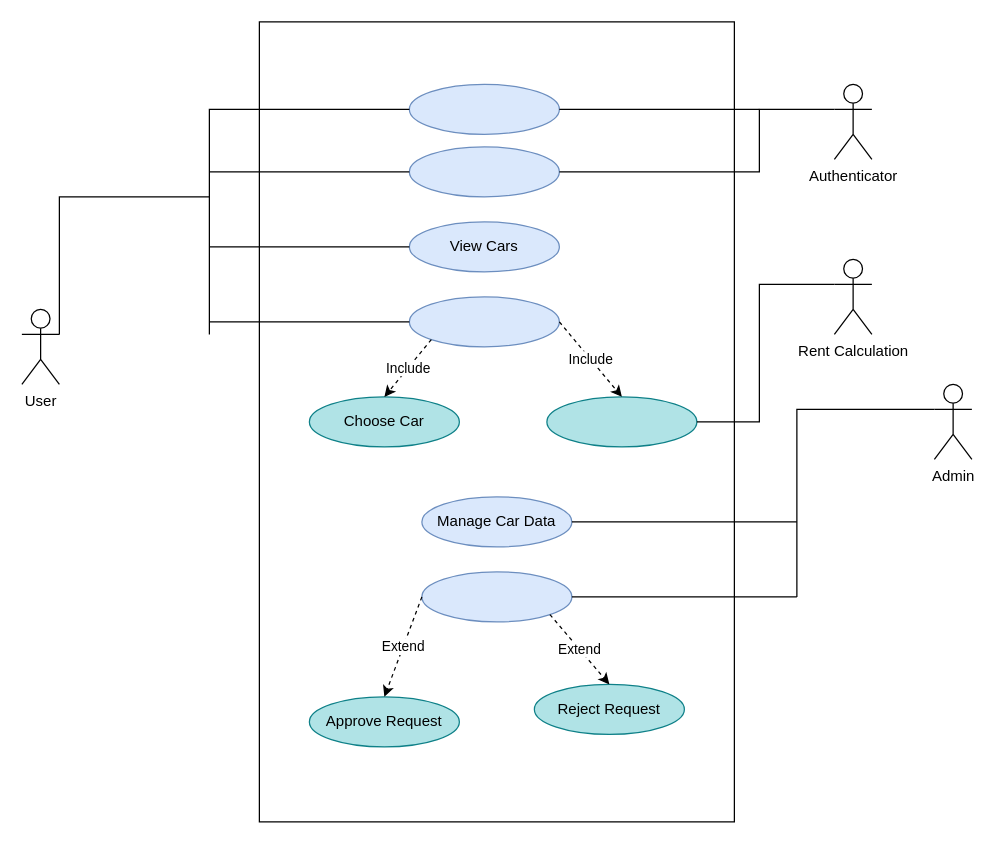
Image size: 996x844. Some labels were removed from this diagram. The centre of each missing label's shape, as x and y in pixels:
"Log-in" goes at (483,171).
"Manage Rentals" goes at (496,596).
"Register" goes at (483,108).
"Rent Car" goes at (483,321).
"Rental Fee" goes at (621,421).
